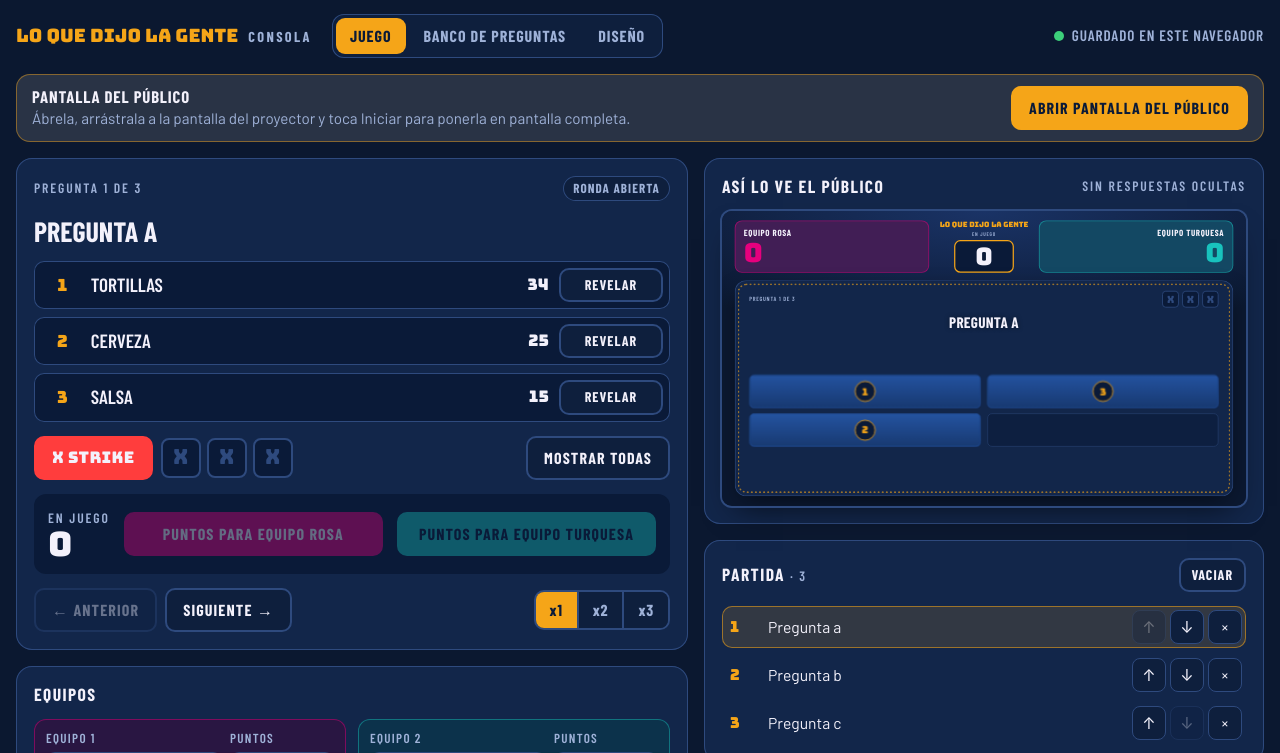
Test: Console · conducting a round › navigates with Anterior/Siguiente, disabled at the ends, keeping each round
Expected: the button "← Anterior" is disabled, 34,588 -> 157,632
Click the button with aria-label "Revelar respuesta 1" at (611, 285), box 559,268 -> 663,302
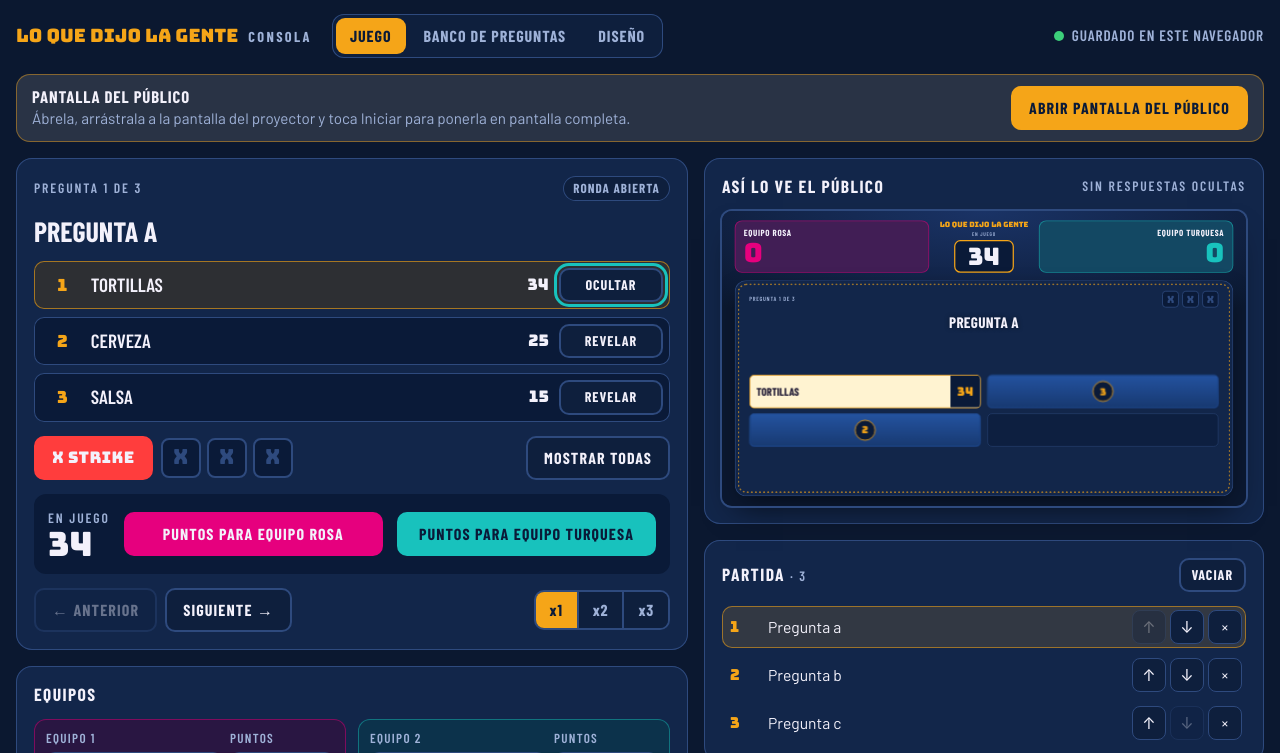
Click the button "Siguiente →" at (229, 610), box 165,588 -> 292,632
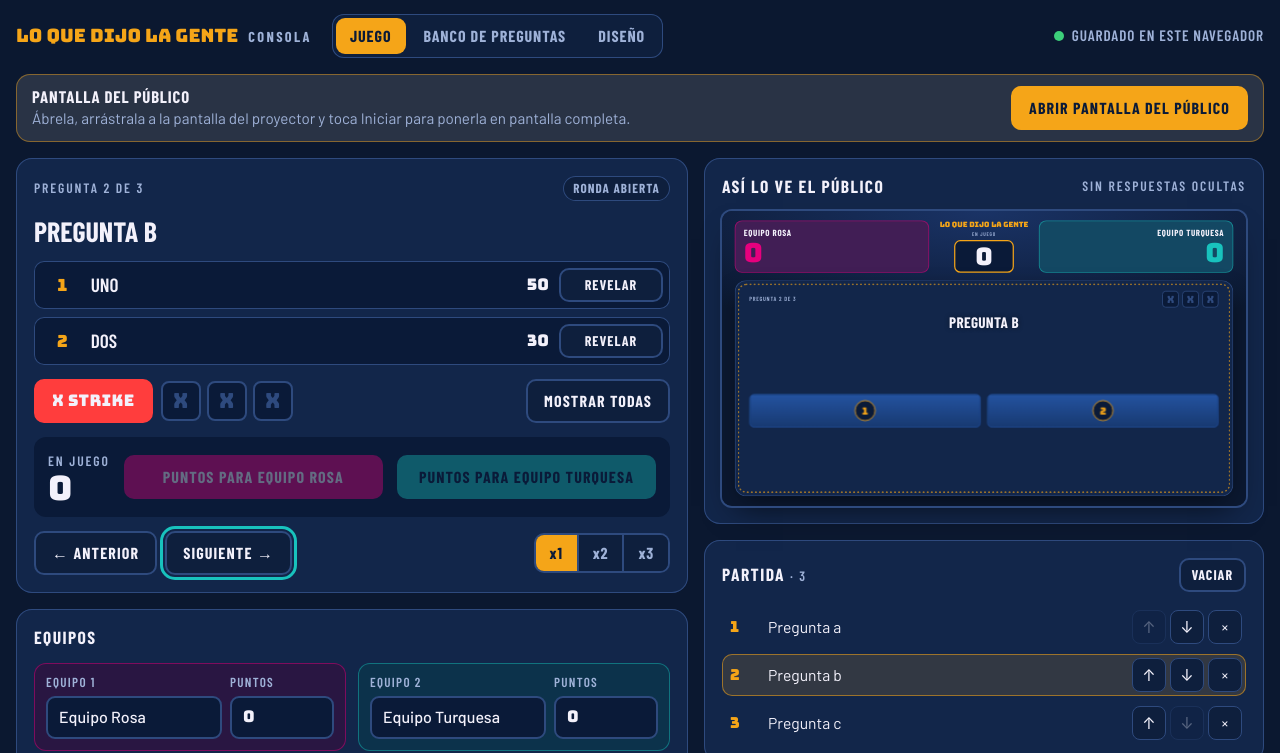
Result: the text with id "hRound" reads "Pregunta 2 de 3" at 34,179 -> 144,196
Result: the text "Pregunta 2 de 3" below "Así lo ve el público" is shown at 749,295 -> 796,303
Click the button "Siguiente →" at (229, 554), box 165,532 -> 292,576
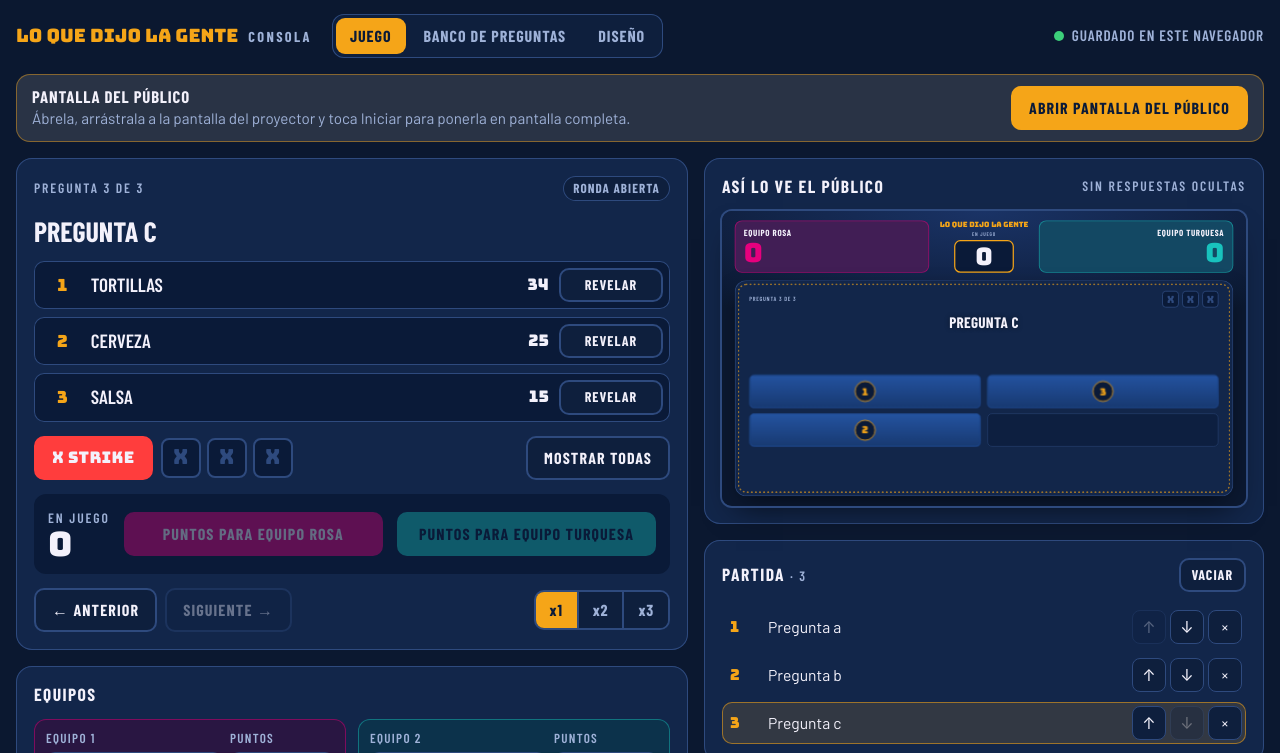
Result: the button "Siguiente →" is disabled at 165,588 -> 292,632
Click the button "← Anterior" at (96, 610), box 34,588 -> 157,632
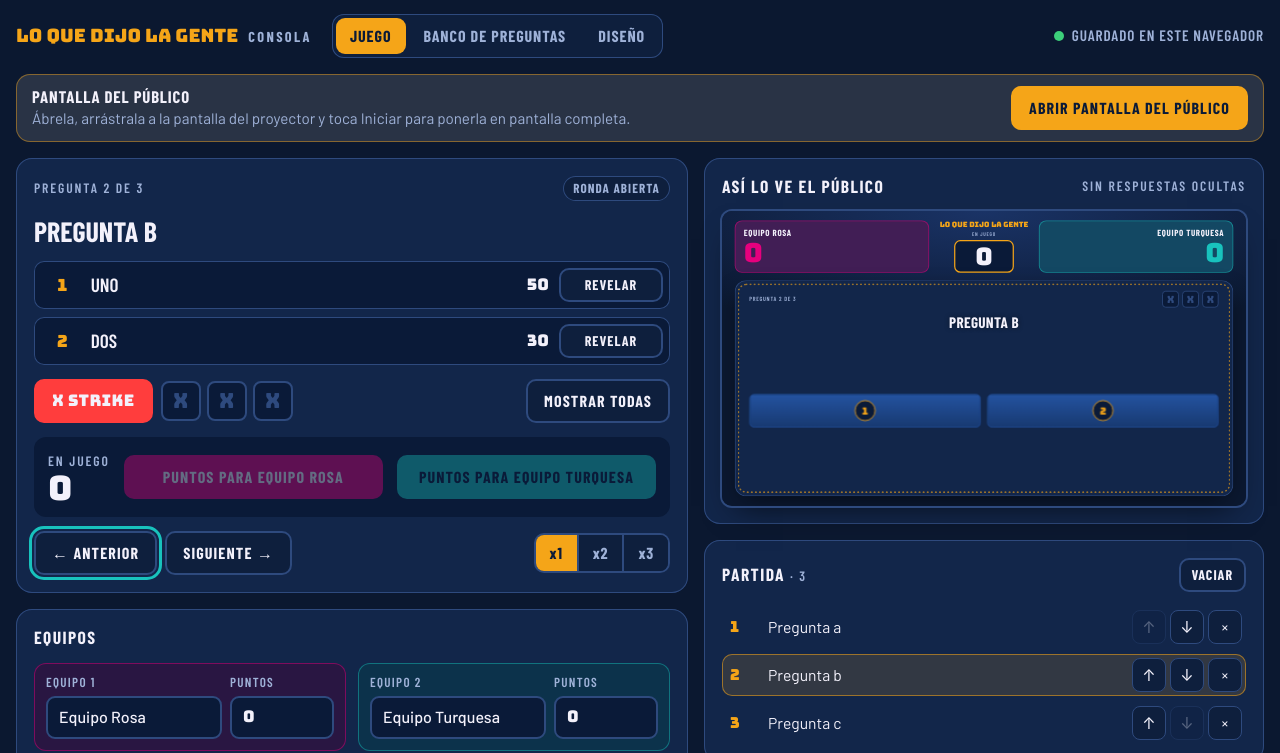
Click the button "← Anterior" at (96, 554), box 34,532 -> 157,576
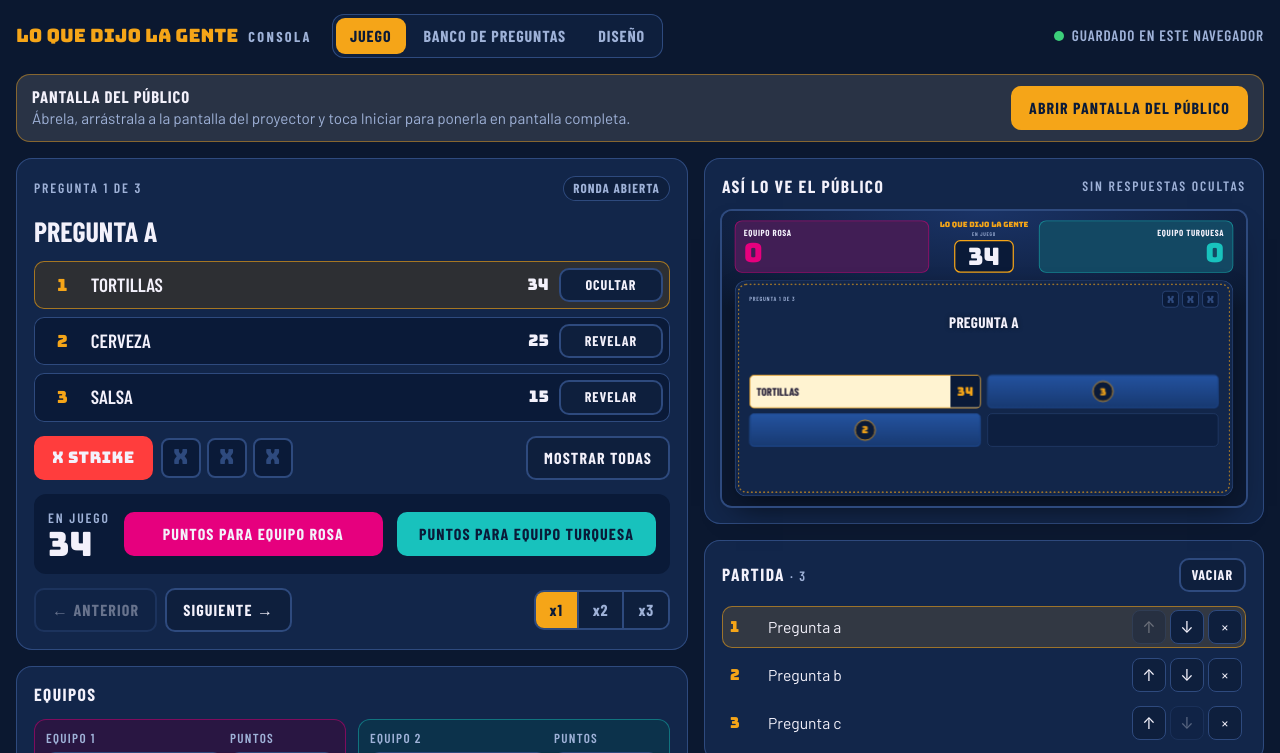
Result: the button with aria-label "Ocultar respuesta 1" is shown at 559,268 -> 663,302
